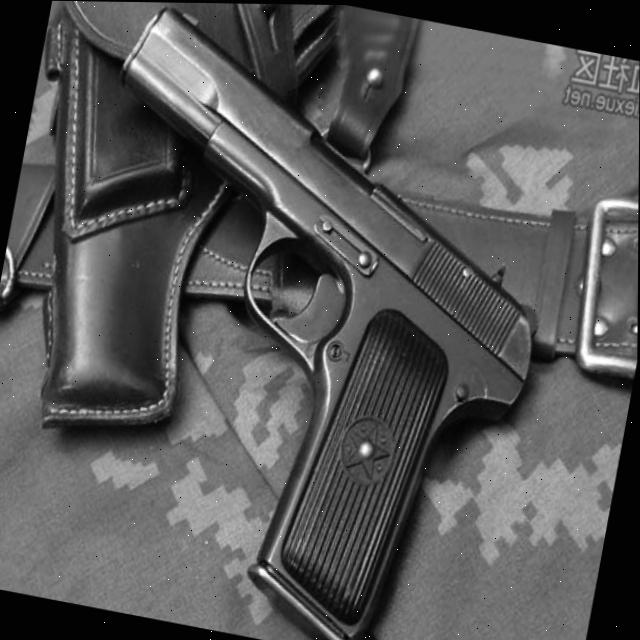pistol: (22, 0, 589, 640)
